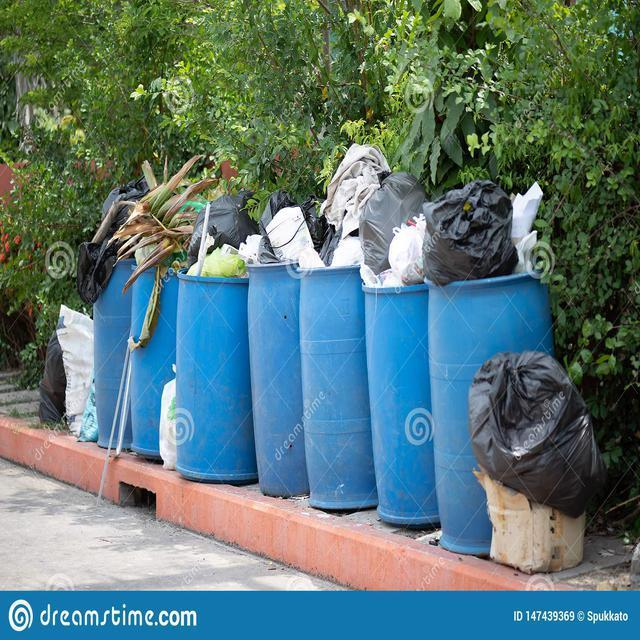garbage: (100, 163, 515, 278), (468, 342, 593, 563)
